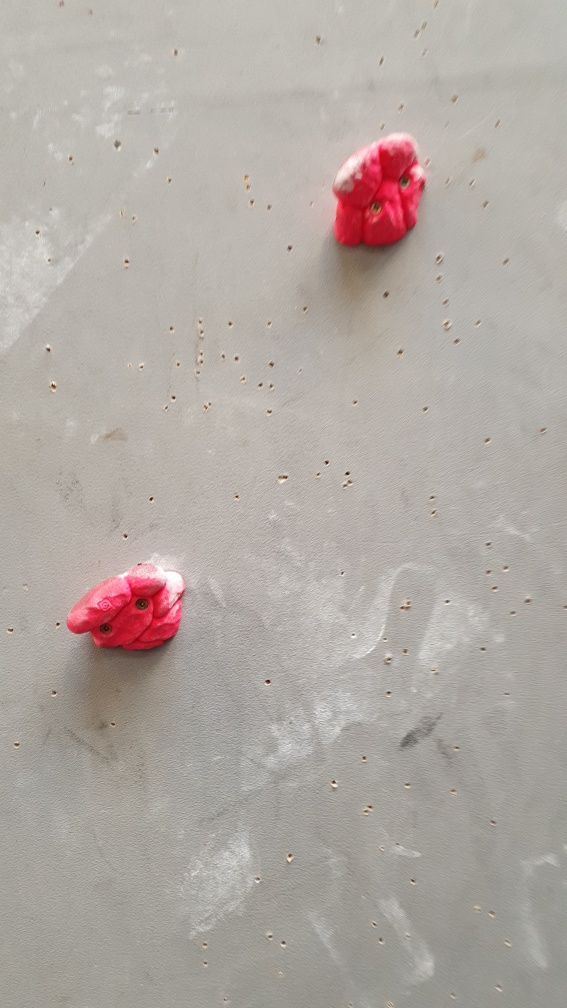Jug: (327, 131, 428, 252), (66, 557, 189, 652)
